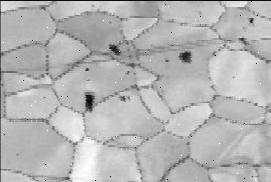good_void: (82, 90, 97, 113), (176, 49, 194, 64), (108, 43, 121, 56), (116, 94, 132, 103), (238, 36, 248, 46), (248, 16, 256, 25), (124, 69, 131, 75), (165, 58, 170, 62), (85, 66, 89, 71)
